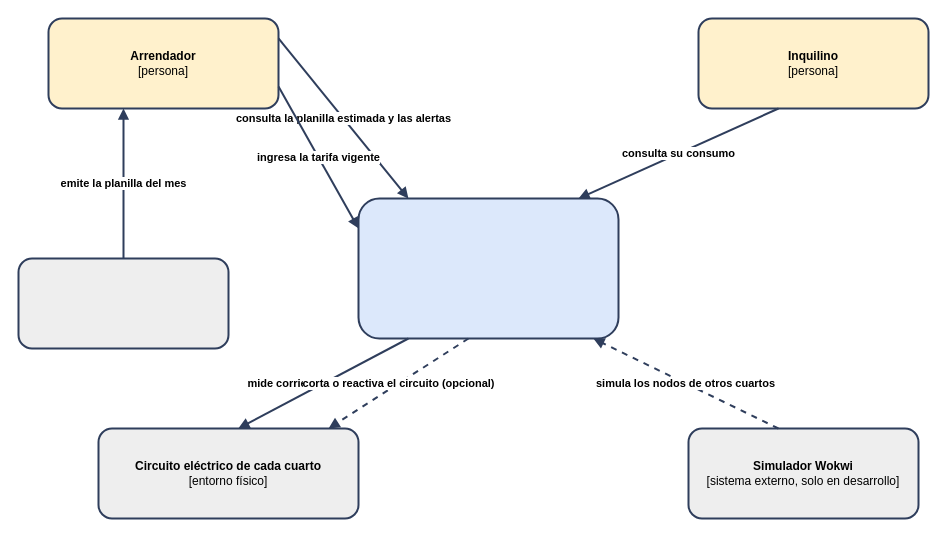
Some shapes in this 946 by 536 pixel diagram are drawn without their labels. The shapes that lost their labels are listed below. From the top down, each one's box as (x1, y1, x2, y2) in pixels, then its label:
(357, 197, 619, 339): Sistema de submedición eléctrica [nodos ESP32, nube y dashboard]
(17, 257, 229, 349): Empresa eléctrica [sistema externo]
